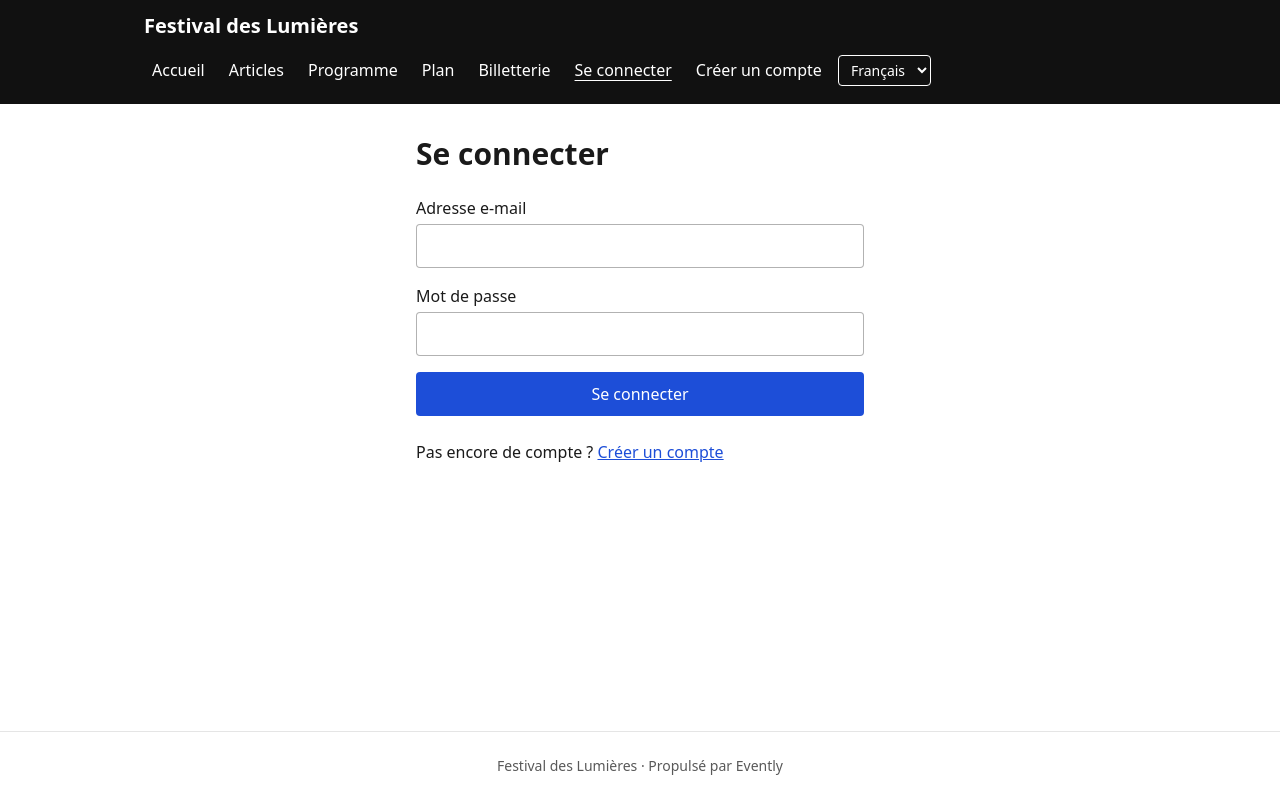
Test: login and registration › logs in and goes back to the requested page
Type "ana@example.com" into the field labelled "Adresse e-mail" at (640, 246), box [416,224,864,268]
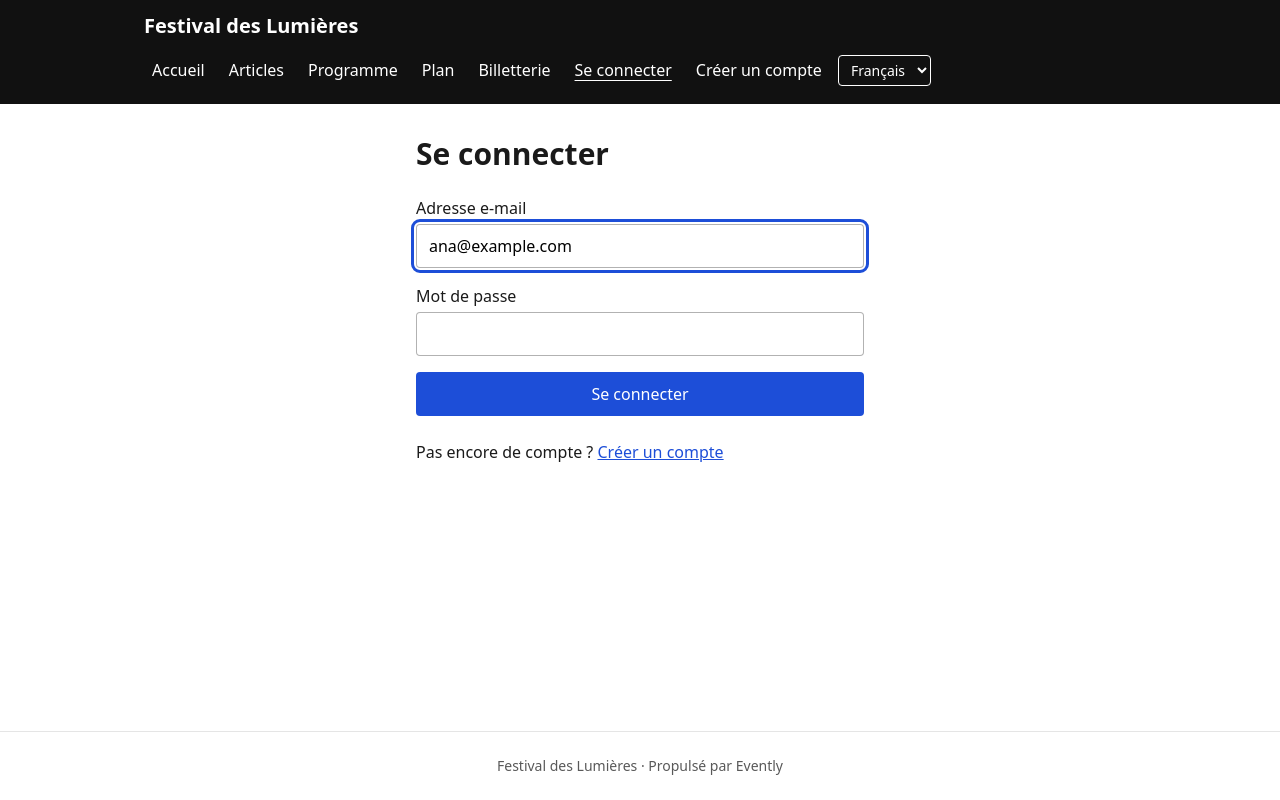
Type "secret-password" into the password field labelled "Mot de passe" at (640, 334), box [416,312,864,356]
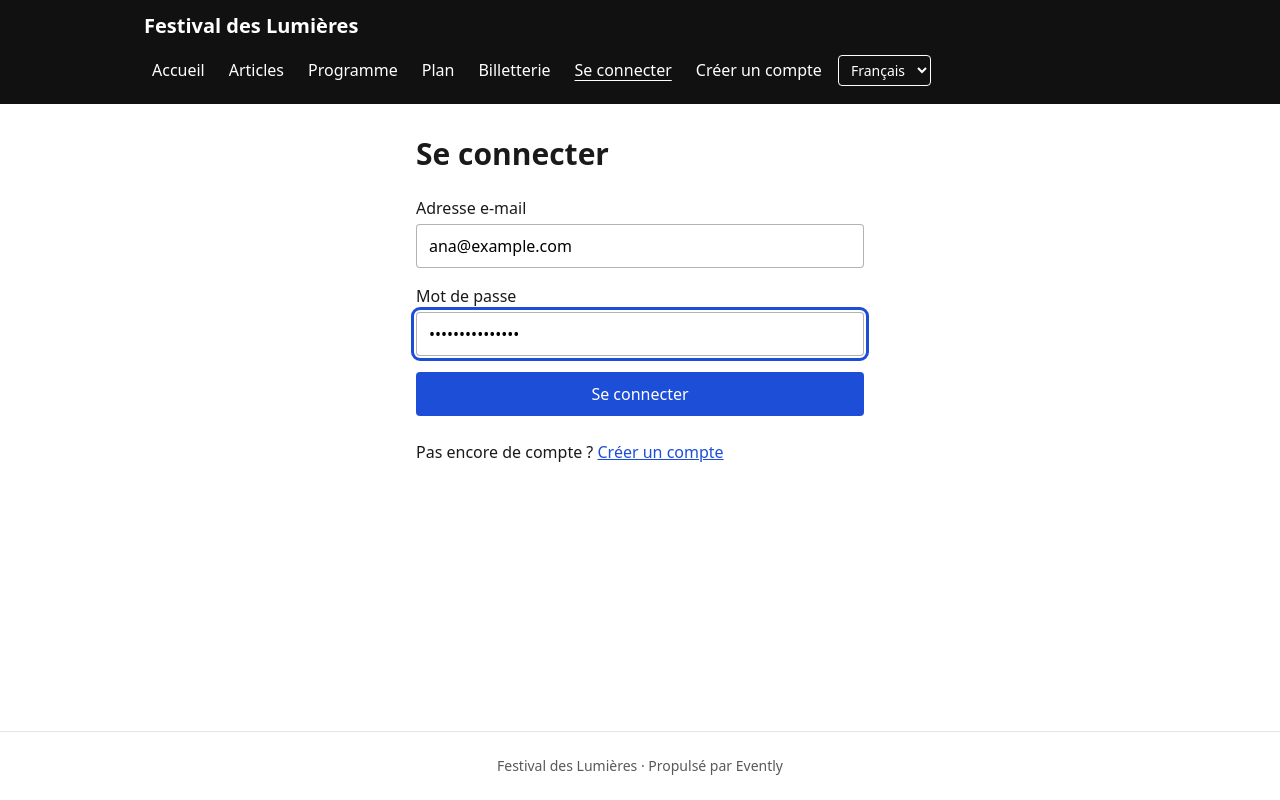
Click the button "Se connecter" at (640, 394), box [416,372,864,416]
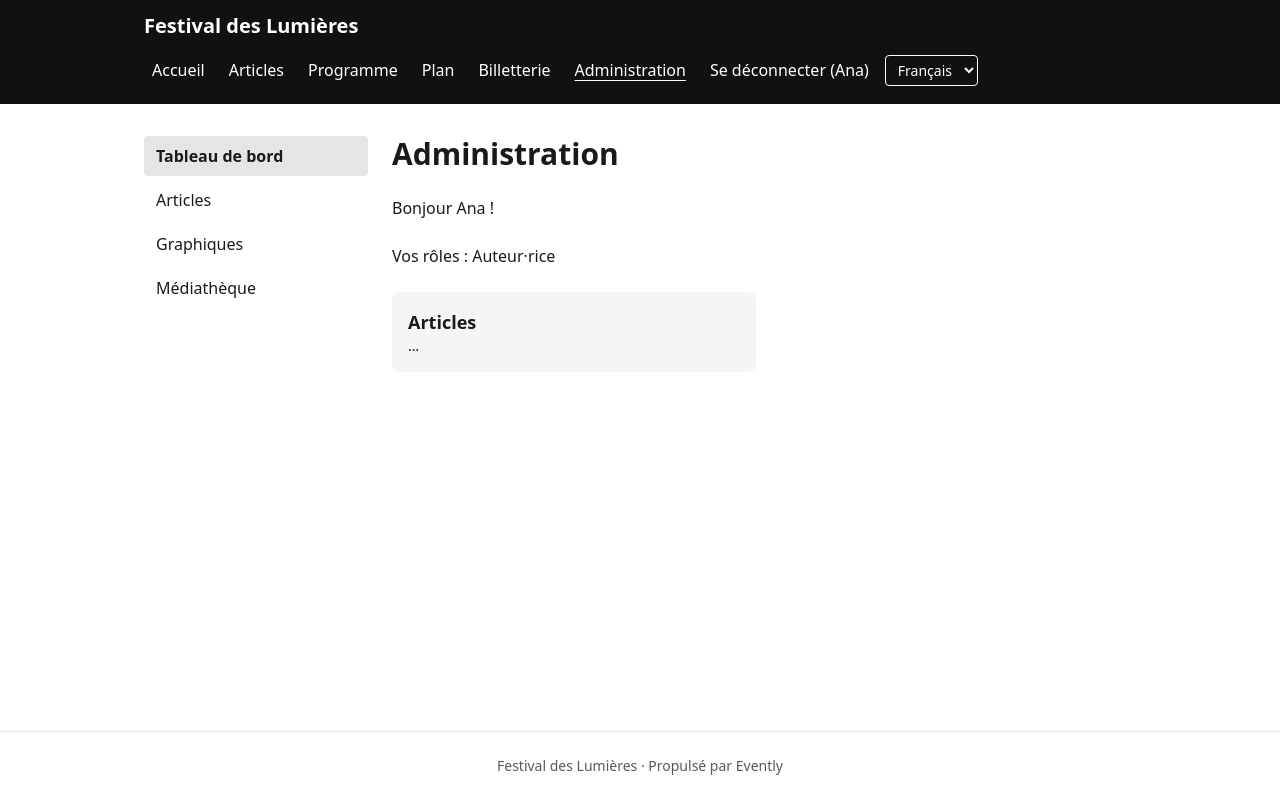
Check: the text "Bonjour Ana !" is shown, box [392,197,494,219]
